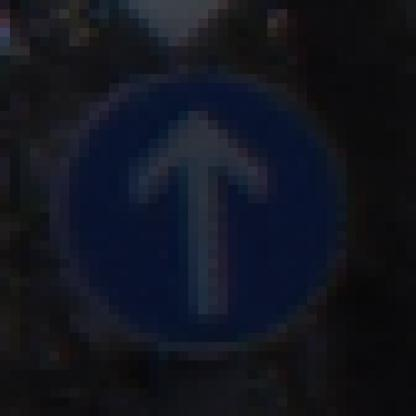AheadOnly: (51, 47, 368, 371)
